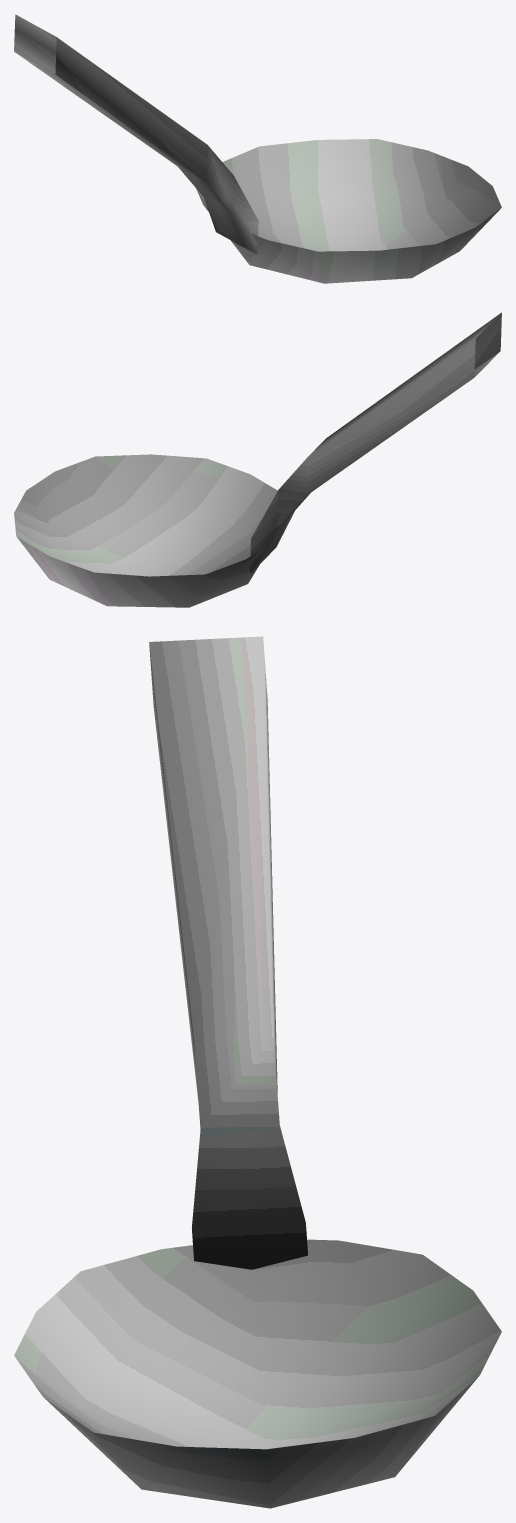
File: spoon.obj
The picture shows the model from 3 angles, top to bottom: view 1: azimuth 30°, elevation 25°; view 2: azimuth 150°, elevation 25°; view 3: azimuth 270°, elevation 25°; orthographic projection. The views are drawn at different scales.
Parts seen in each view (by area): view 1: DrawCall_50, DrawCall_51; view 2: DrawCall_50, DrawCall_51; view 3: DrawCall_50, DrawCall_51.
Part boxes in pixels (<box>): DrawCall_50: <box>196,139,501,283</box>; DrawCall_51: <box>14,14,258,254</box>; DrawCall_50: <box>14,454,277,607</box>; DrawCall_51: <box>250,312,501,573</box>; DrawCall_50: <box>14,1239,501,1508</box>; DrawCall_51: <box>149,636,307,1269</box>.
Size of the model in its own units: 9.7 by 7.02 by 5.39.
1 material, 1 textured.
